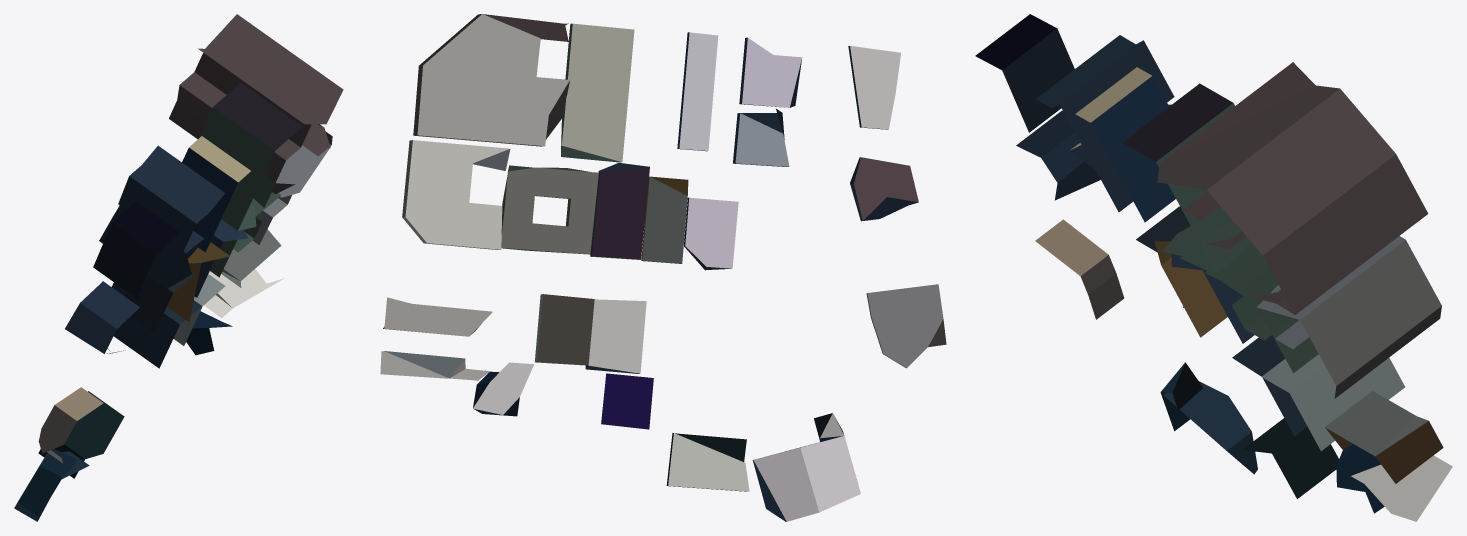
The picture shows the model from 3 angles, left to right: view 1: azimuth 30°, elevation 25°; view 2: azimuth 150°, elevation 25°; view 3: azimuth 270°, elevation 25°; orthographic projection. The views are drawn at different scales.
Bounding box in the file's own units: 97.47 × 101 × 81.1.
